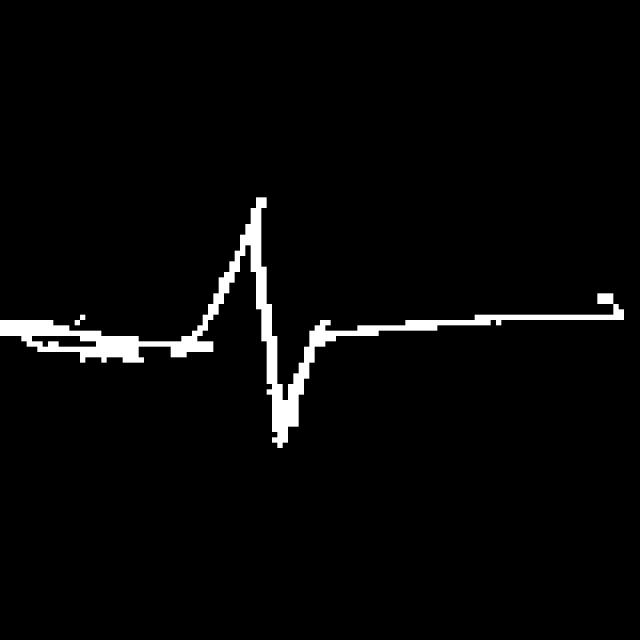resistor: (173, 178, 344, 456)
